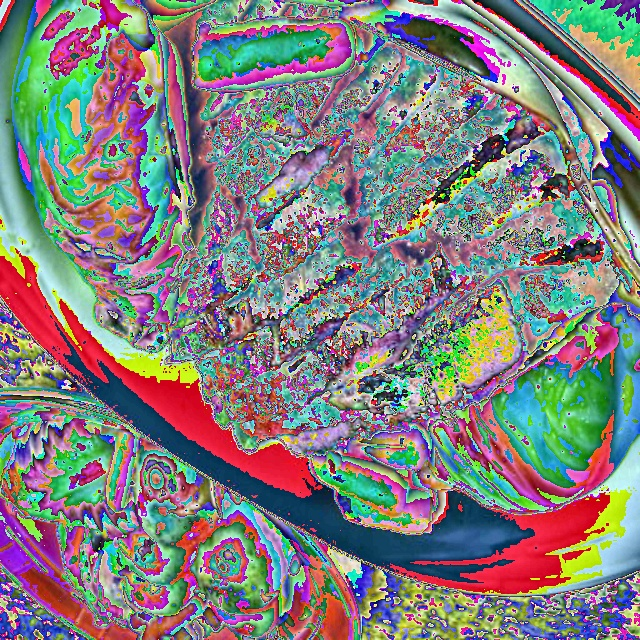background: (13, 0, 639, 537), (0, 223, 288, 639)
